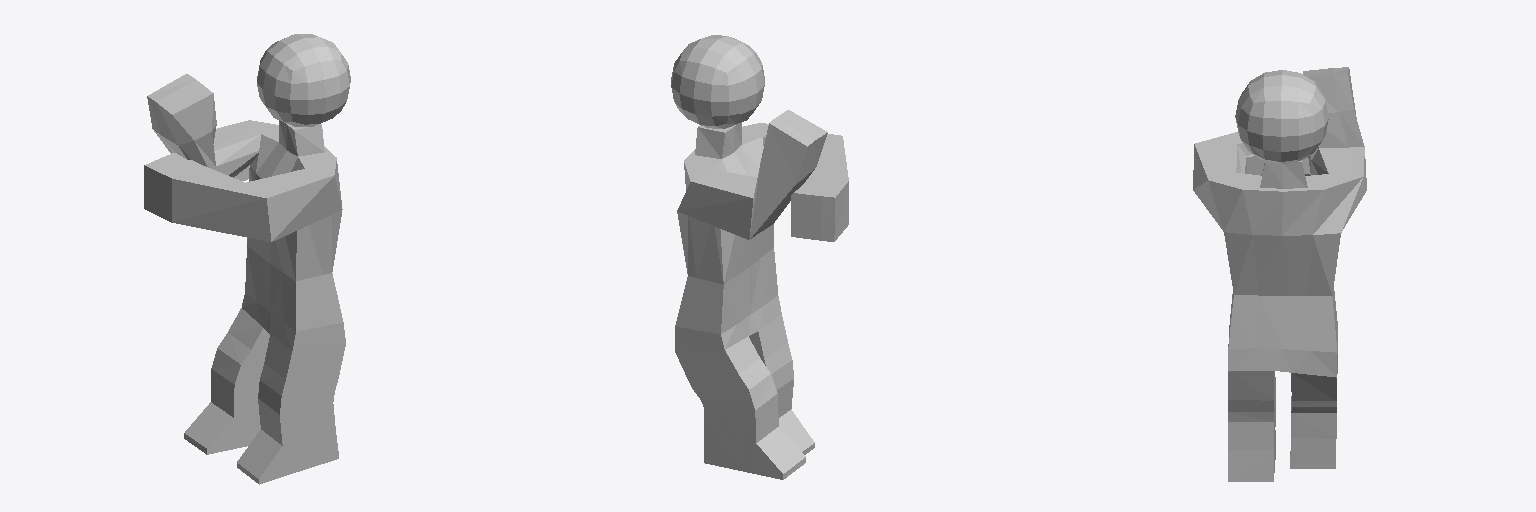
The model's file is player.obj.
3 views of the same model, side by side, from view 1: azimuth 30°, elevation 25°; view 2: azimuth 150°, elevation 25°; view 3: azimuth 270°, elevation 25° (orthographic).
Parts seen in each view (by area): view 1: 立方体; view 2: 立方体; view 3: 立方体.
Part boxes in pixels (left/top/right/bottom): 立方体: left=144, top=34, right=350, bottom=484; 立方体: left=671, top=35, right=848, bottom=479; 立方体: left=1193, top=67, right=1366, bottom=481.
Size of the model in its own units: 3.7 by 8.12 by 3.12.